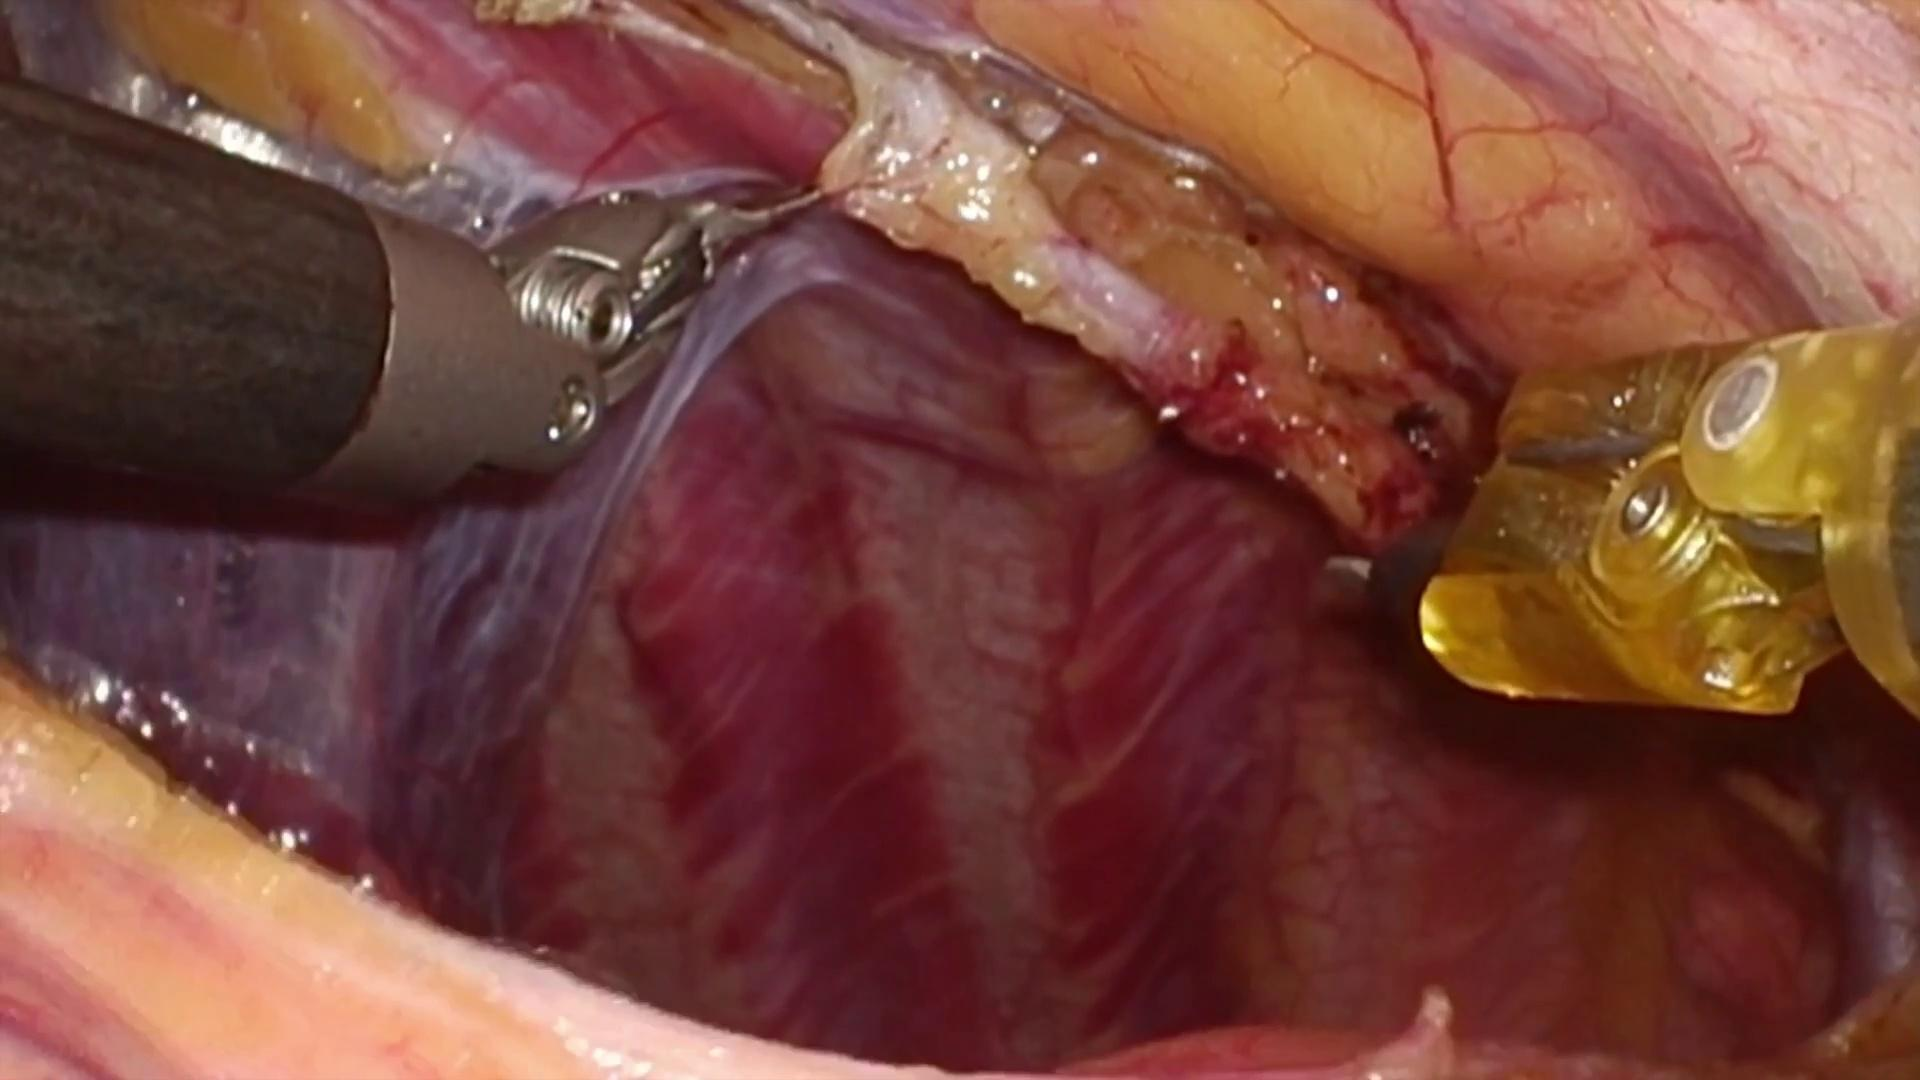Cautery_Spatula: (1328, 545, 1456, 650)
Debakey: (682, 153, 848, 289)
